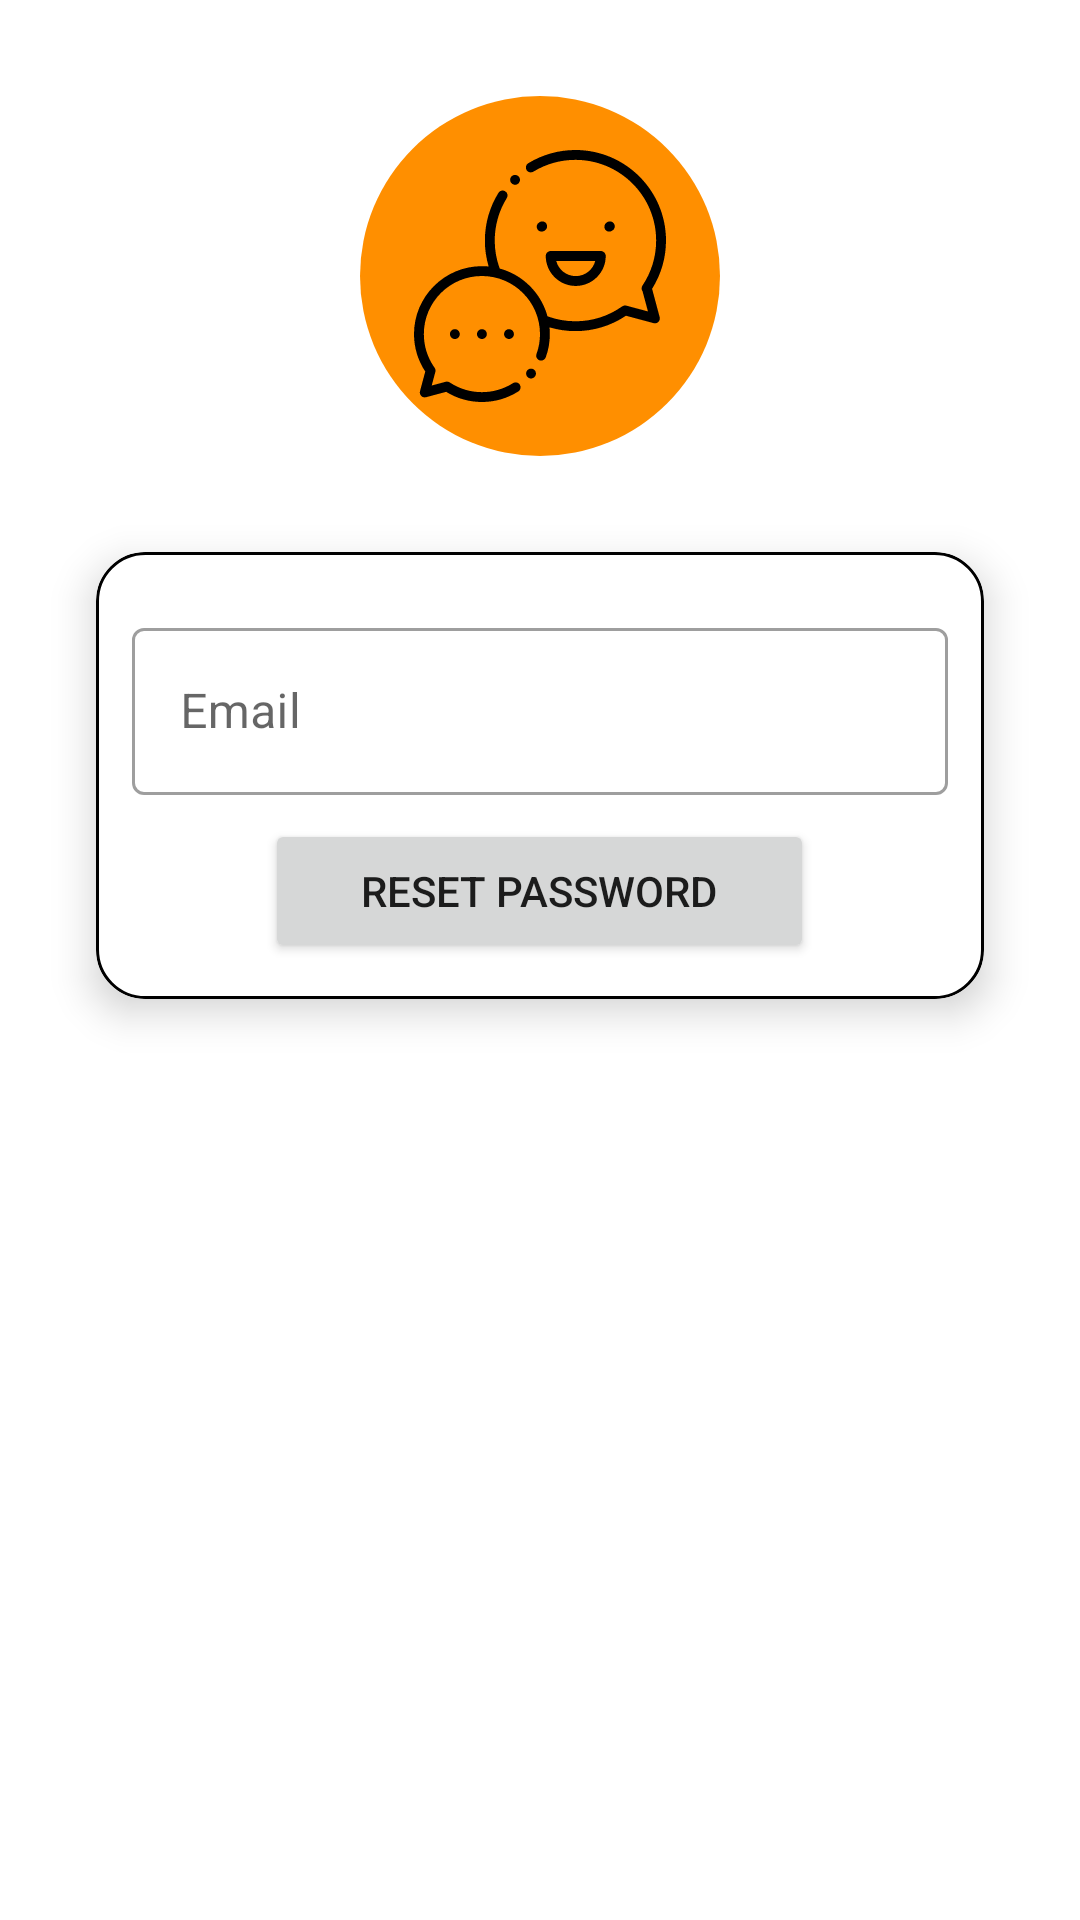

Icons on this 1080x1920 Android screen, each with the point to tap as [x,y]:
chat: [540,276]
